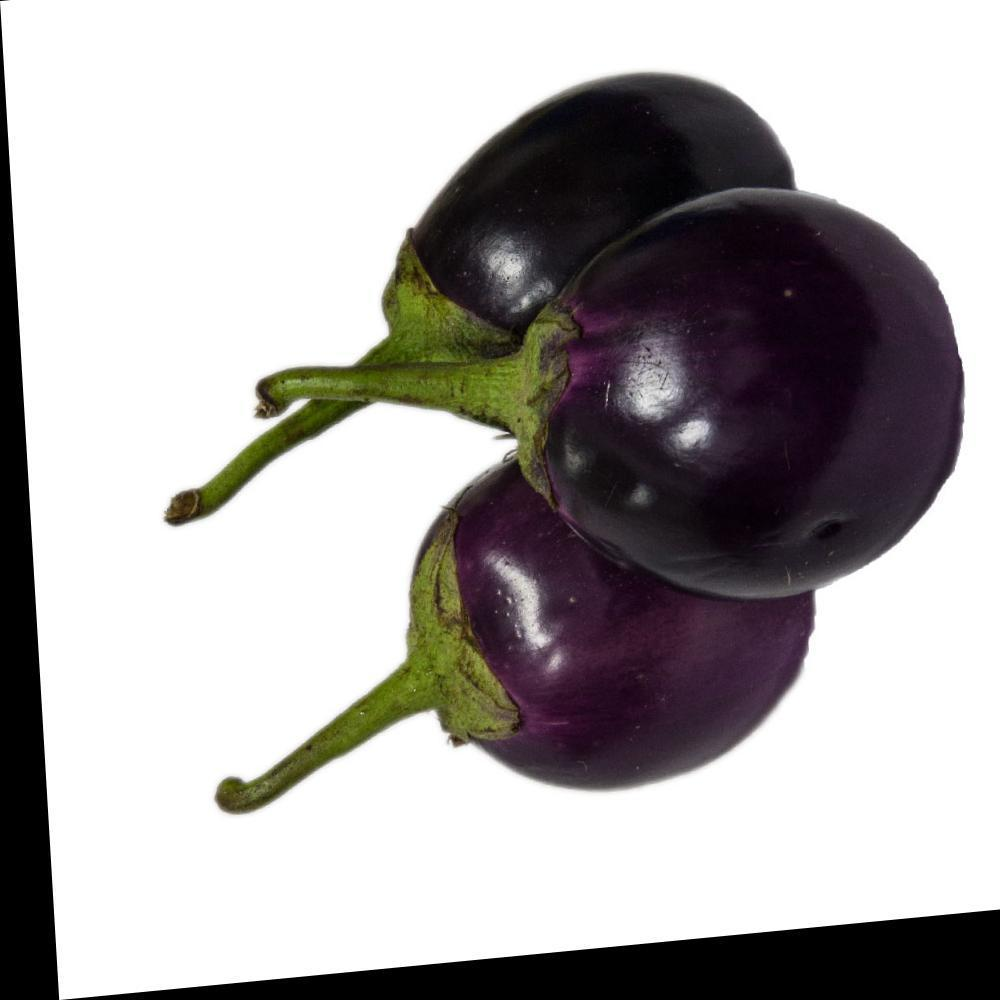eggplant: (303, 24, 970, 657), (182, 280, 859, 896)
